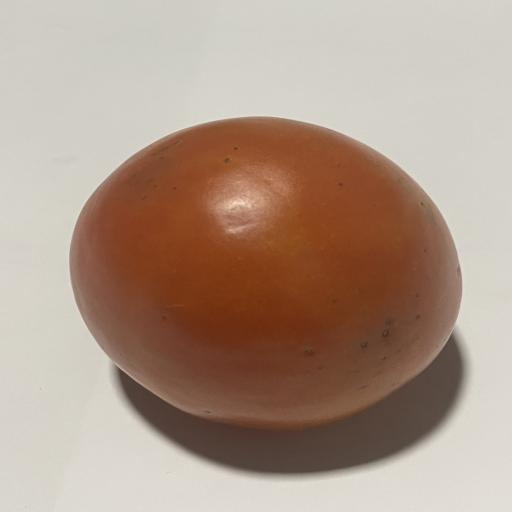unripe: (70, 117, 461, 429)
